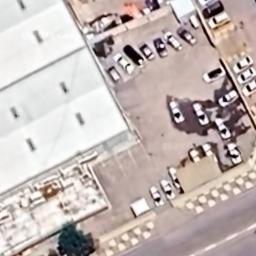SUV: (208, 10, 232, 33)
pickup: (216, 89, 242, 108)
sedan: (189, 102, 211, 127), (160, 31, 186, 52), (176, 24, 198, 46), (226, 141, 244, 165)
truck: (112, 53, 138, 76), (106, 63, 123, 84)
unknown: (120, 44, 146, 66), (168, 98, 186, 129), (230, 54, 254, 74), (212, 116, 232, 140), (234, 67, 256, 88), (199, 66, 226, 83), (138, 40, 158, 62), (154, 35, 170, 60), (146, 185, 164, 207), (166, 167, 184, 189), (158, 178, 174, 200), (243, 78, 256, 98)
van: (200, 1, 228, 18)
